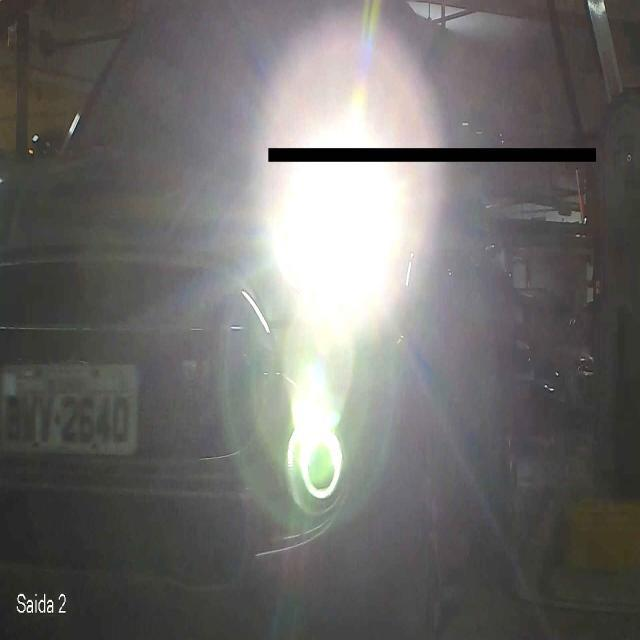old_plate: (0, 355, 150, 463)
